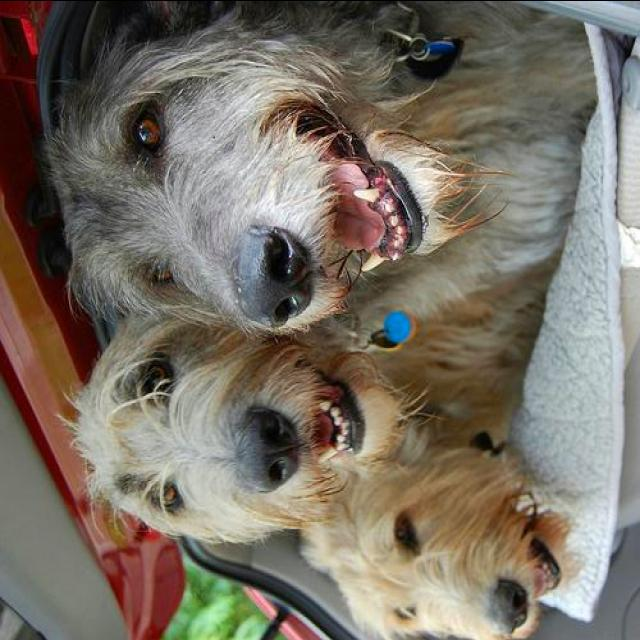irish_wolfhound: (42, 3, 595, 350), (65, 256, 557, 550), (294, 425, 560, 640)
